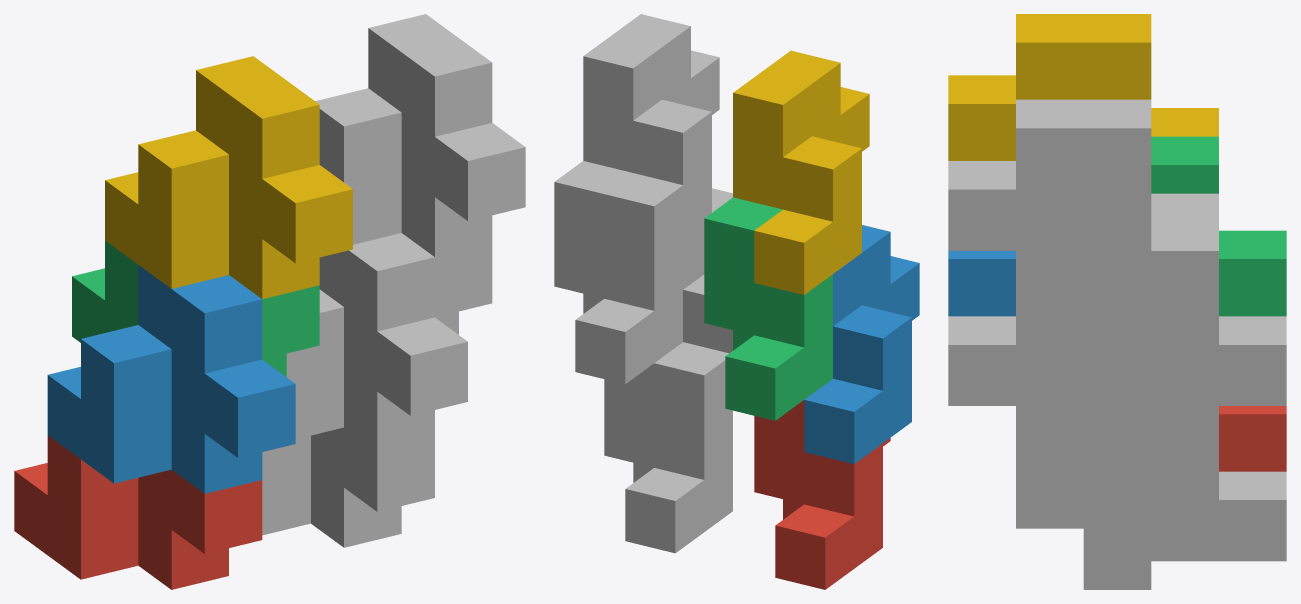
File: tiling.obj
3 views of the same model, side by side, from view 1: azimuth 30°, elevation 25°; view 2: azimuth 150°, elevation 25°; view 3: azimuth 270°, elevation 25° (orthographic). The views are drawn at different scales.
Visible parts, largest first — view 1: copy_1_domain_4, copy_1_domain_2, copy_1_domain_8, copy_1_domain_6, copy_1_domain_1, copy_1_domain_5, copy_1_domain_3, copy_1_domain_7; view 2: copy_1_domain_4, copy_1_domain_8, copy_1_domain_7, copy_1_domain_3, copy_1_domain_2, copy_1_domain_1, copy_1_domain_5, copy_1_domain_6; view 3: copy_1_domain_7, copy_1_domain_8, copy_1_domain_5, copy_1_domain_4, copy_1_domain_6, copy_1_domain_3, copy_1_domain_1, copy_1_domain_2.
Part boxes in pixels (left/top/right/bottom): copy_1_domain_4: left=105, top=56, right=352, bottom=299; copy_1_domain_2: left=47, top=265, right=295, bottom=493; copy_1_domain_8: left=315, top=14, right=525, bottom=256; copy_1_domain_6: left=286, top=233, right=467, bottom=451; copy_1_domain_1: left=14, top=435, right=262, bottom=589; copy_1_domain_5: left=262, top=427, right=434, bottom=547; copy_1_domain_3: left=72, top=240, right=319, bottom=376; copy_1_domain_7: left=435, top=243, right=492, bottom=334; copy_1_domain_4: left=733, top=50, right=869, bottom=294; copy_1_domain_8: left=583, top=14, right=719, bottom=258; copy_1_domain_7: left=554, top=161, right=682, bottom=384; copy_1_domain_3: left=704, top=197, right=832, bottom=420; copy_1_domain_2: left=804, top=225, right=919, bottom=463; copy_1_domain_1: left=754, top=400, right=890, bottom=589; copy_1_domain_5: left=604, top=363, right=732, bottom=553; copy_1_domain_6: left=654, top=188, right=732, bottom=427; copy_1_domain_7: left=1016, top=222, right=1286, bottom=434; copy_1_domain_8: left=948, top=99, right=1218, bottom=311; copy_1_domain_5: left=1016, top=406, right=1286, bottom=589; copy_1_domain_4: left=948, top=14, right=1218, bottom=160; copy_1_domain_6: left=948, top=316, right=1083, bottom=467; copy_1_domain_3: left=1151, top=136, right=1286, bottom=316; copy_1_domain_1: left=1219, top=406, right=1286, bottom=471; copy_1_domain_2: left=948, top=251, right=1015, bottom=316.
Size of the model in its own units: 6 by 8 by 5.
